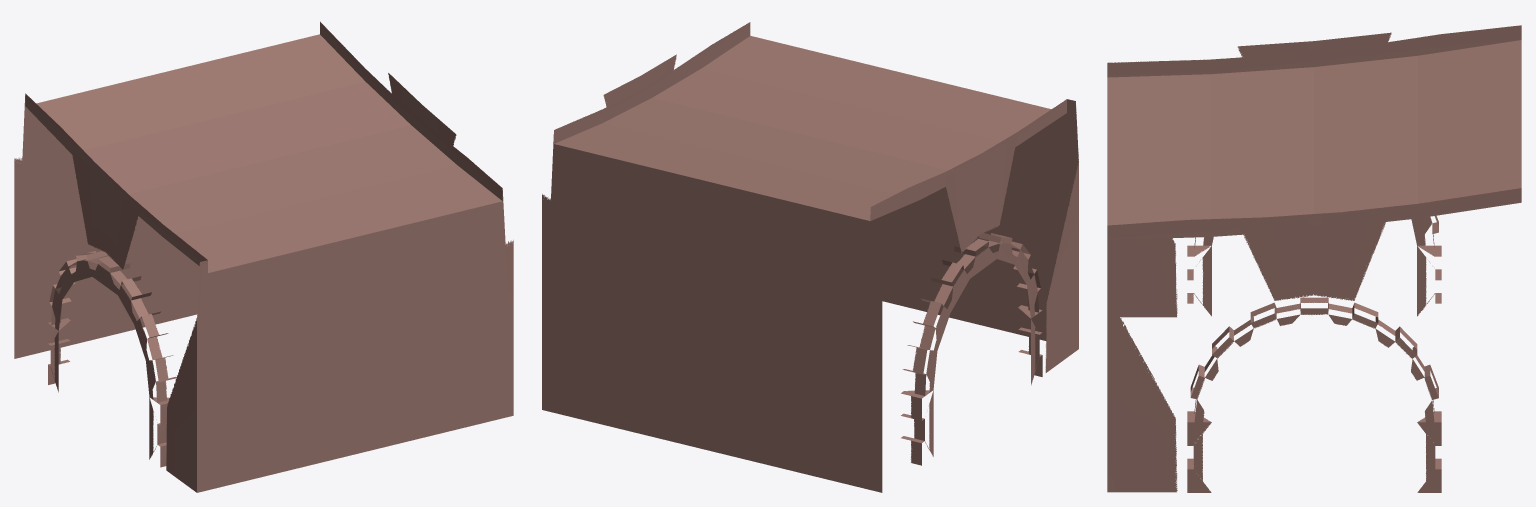
The model's file is SW_ENV_WalledRiserStart_DoubleTrack_Collision.fbx.
The picture shows the model from 3 angles, left to right: view 1: azimuth 30°, elevation 25°; view 2: azimuth 150°, elevation 25°; view 3: azimuth 270°, elevation 25°; orthographic projection. The views are drawn at different scales.
Parts seen in each view (by area): view 1: SW_ENV_WalledRiserStart_DoubleTrack_Collision; view 2: SW_ENV_WalledRiserStart_DoubleTrack_Collision; view 3: SW_ENV_WalledRiserStart_DoubleTrack_Collision.
Part boxes in pixels (left/top/right/bottom): SW_ENV_WalledRiserStart_DoubleTrack_Collision: left=14, top=21, right=513, bottom=492; SW_ENV_WalledRiserStart_DoubleTrack_Collision: left=542, top=22, right=1078, bottom=492; SW_ENV_WalledRiserStart_DoubleTrack_Collision: left=1107, top=25, right=1521, bottom=492.
Bounding box in the file's own units: 10.1 × 8.08 × 10.
